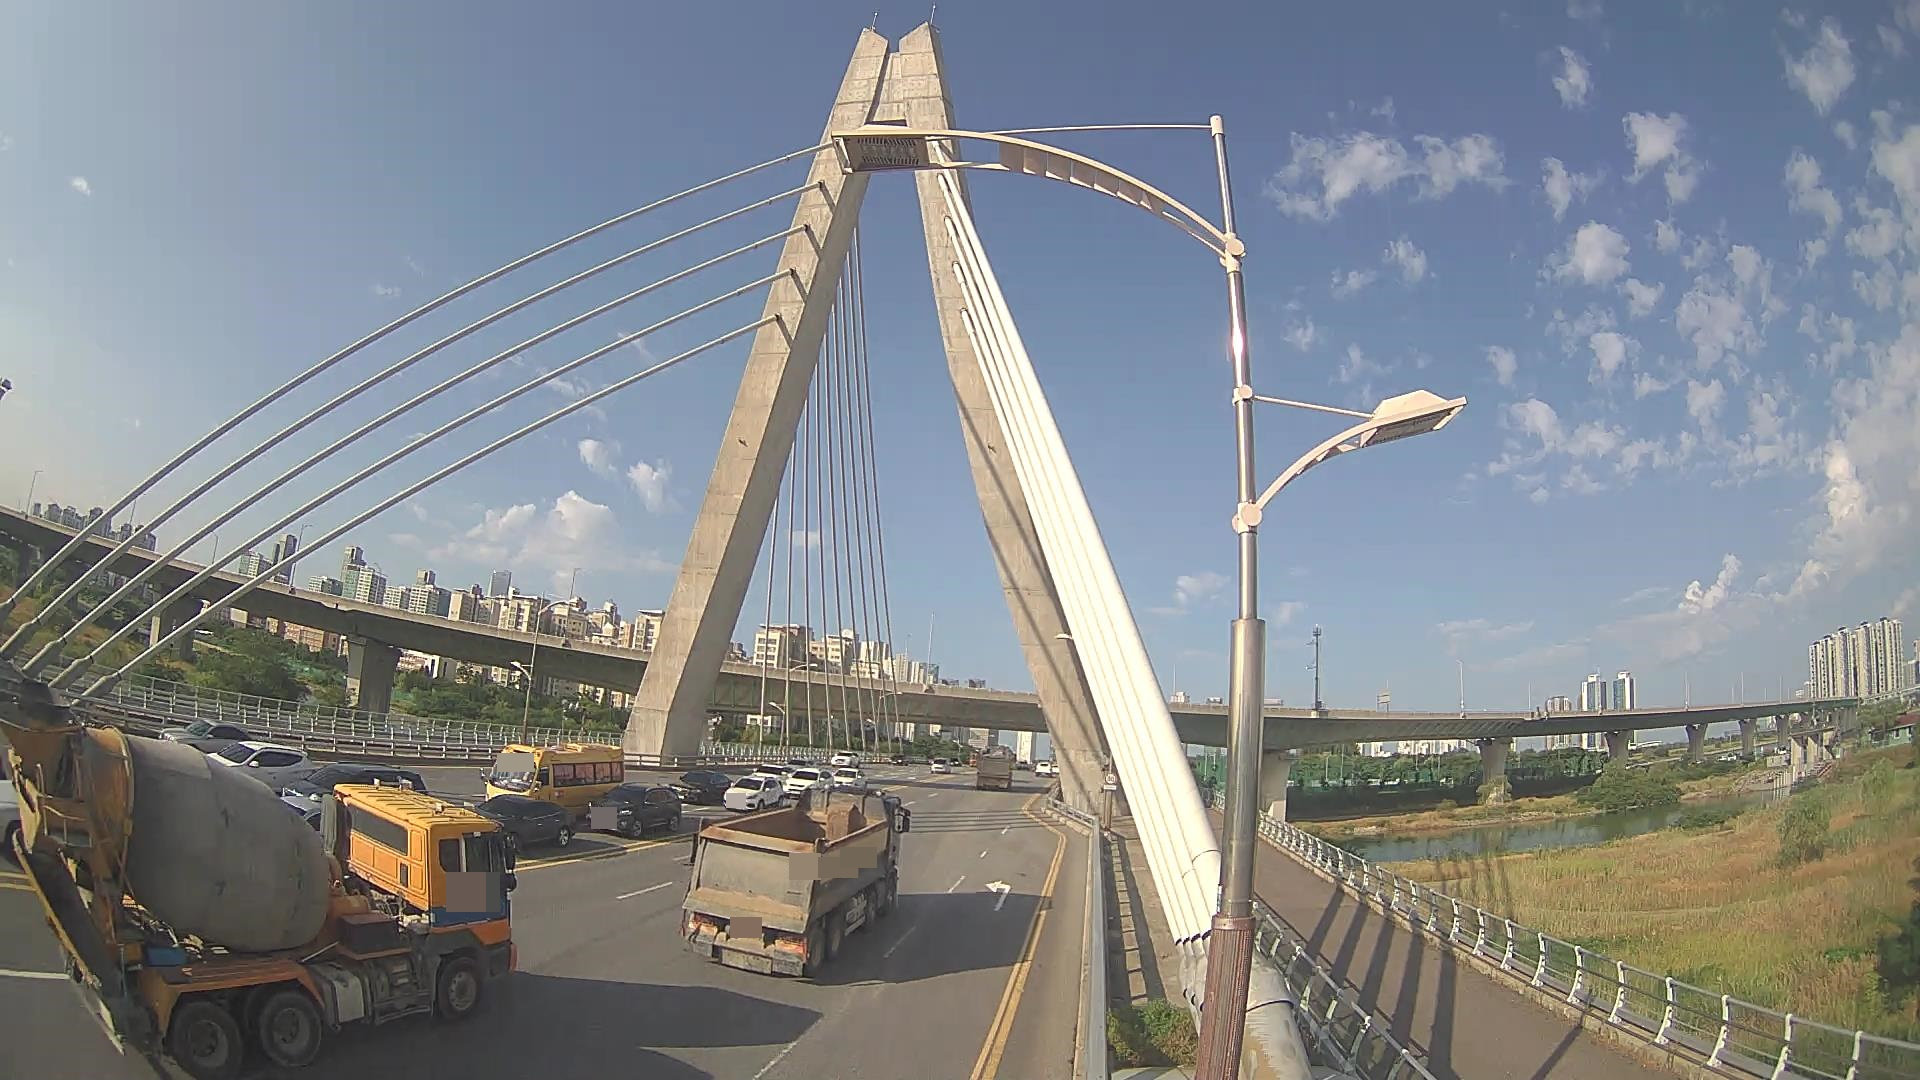정상차량: (682, 790, 910, 977)
